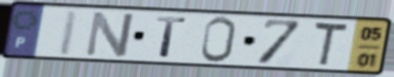0: (199, 14, 238, 65)
7: (257, 18, 304, 67)
I: (55, 8, 83, 57)
N: (82, 9, 138, 59)
T: (311, 20, 351, 69), (154, 14, 189, 59)
